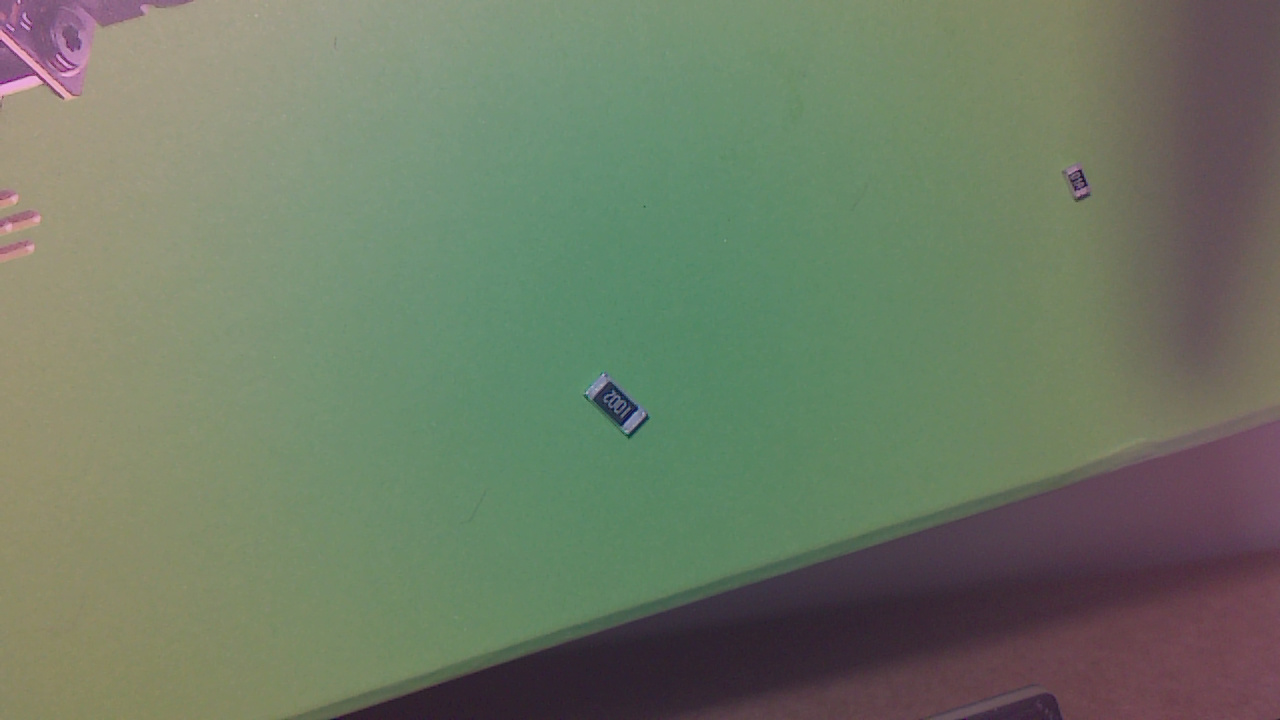Resistor: (589, 373, 655, 444), (1070, 168, 1096, 206)
